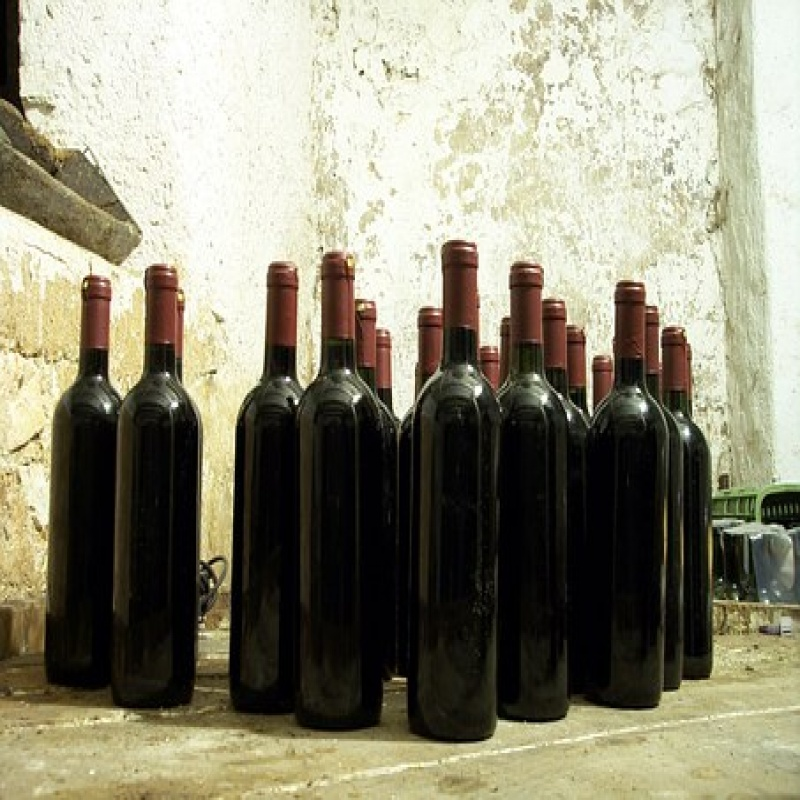wine: (404, 242, 505, 739), (301, 253, 386, 735), (582, 285, 667, 715), (120, 264, 202, 707), (227, 265, 294, 718), (55, 277, 121, 692)
